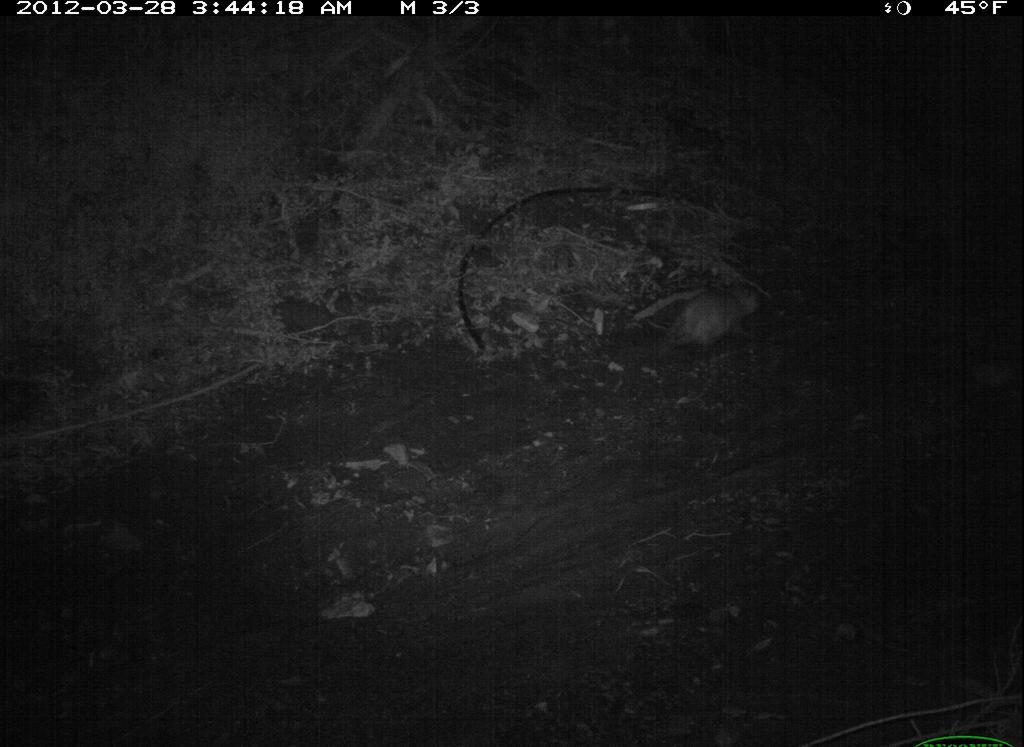opossum: (629, 269, 779, 369)
